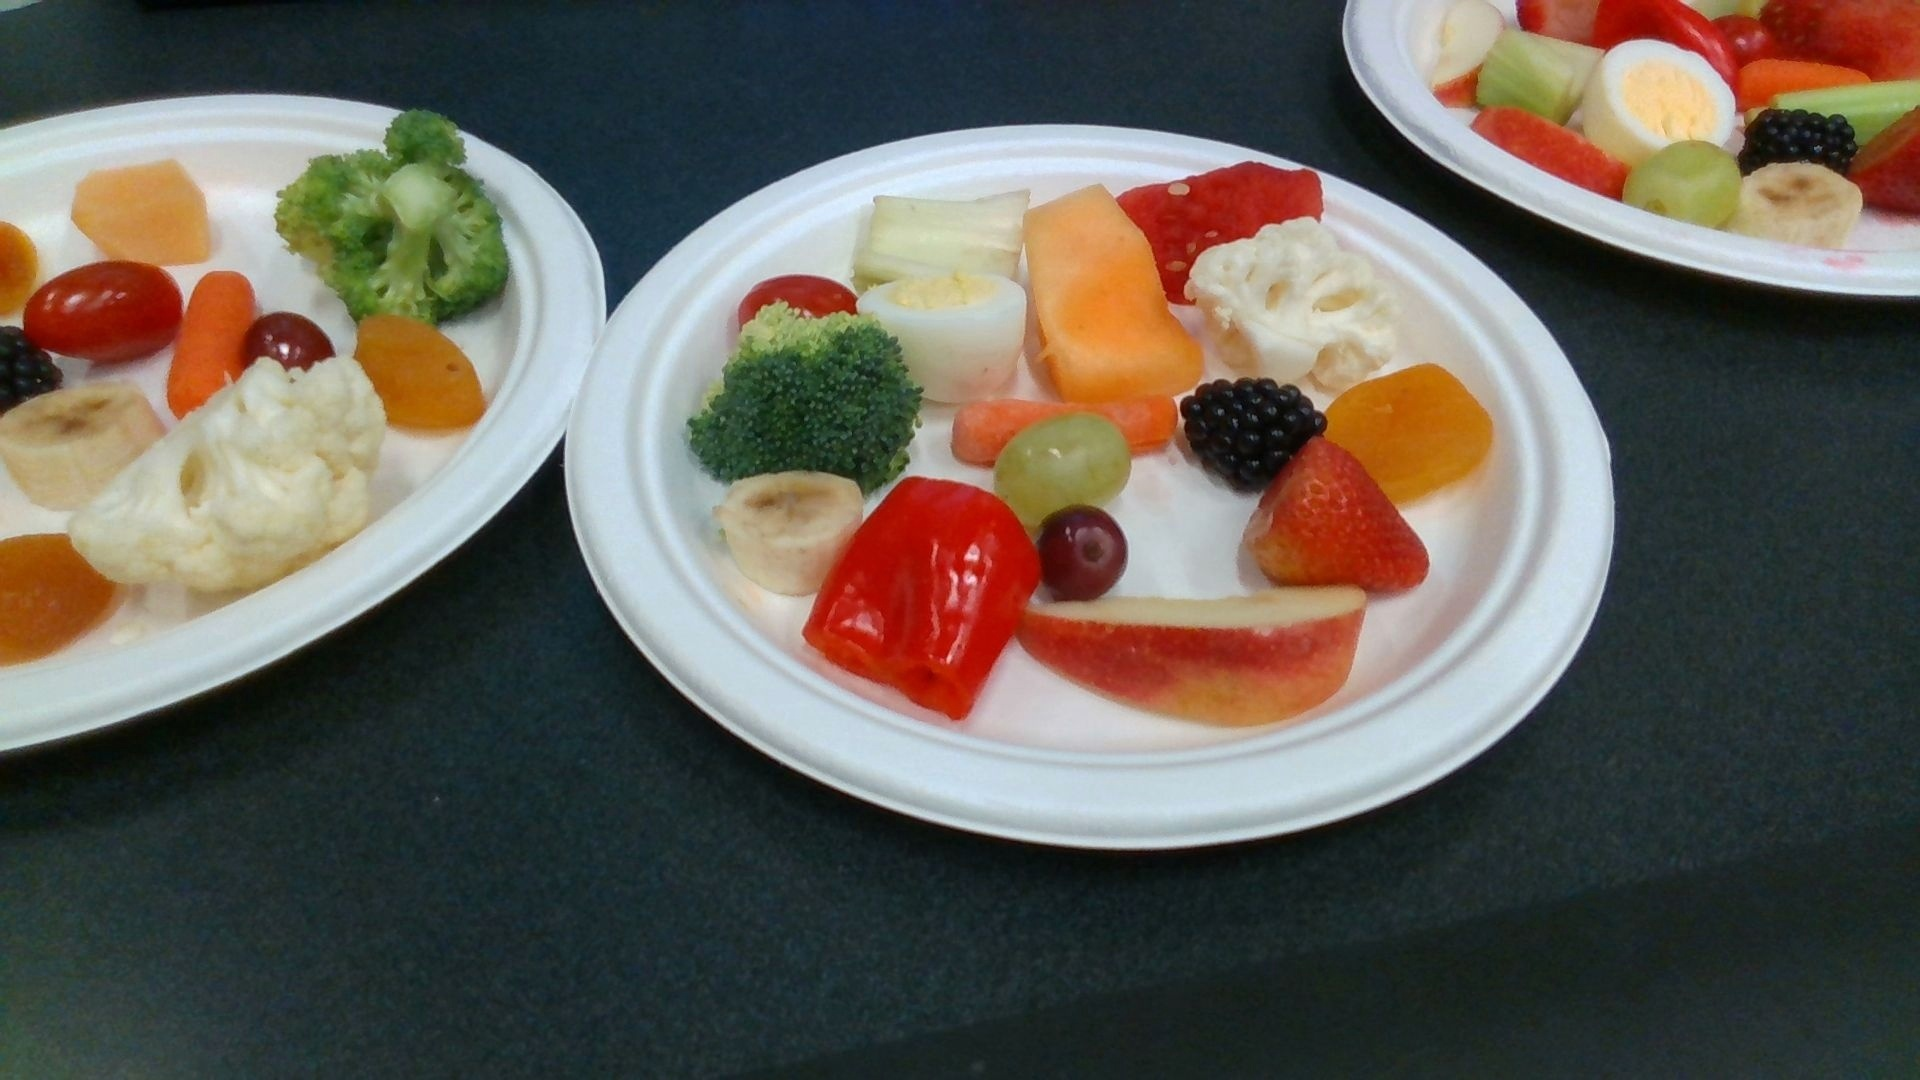apple: (1017, 585, 1364, 725), (1472, 105, 1629, 195)
apricot: (1327, 365, 1491, 505), (353, 318, 484, 431), (1, 533, 113, 663)
banana: (1, 390, 160, 508), (724, 471, 860, 593), (1742, 158, 1859, 251)
bell_pepper: (810, 480, 1034, 716)
blackberry: (1184, 381, 1325, 488)
broccoli: (276, 111, 509, 318), (692, 303, 914, 488)
cantalope: (1025, 189, 1204, 396), (74, 160, 210, 262)
carrot: (955, 398, 1178, 463), (171, 276, 252, 418)
cauliflower: (69, 360, 380, 585), (1185, 216, 1393, 376)
celery: (860, 195, 1025, 280)
cherry_tomato: (24, 262, 177, 357)
egg: (857, 276, 1025, 398), (1586, 40, 1735, 160)
grape_green: (997, 413, 1130, 521), (1625, 141, 1742, 225)
grape_purple: (1036, 506, 1127, 601)
melon: (1120, 161, 1324, 303)
strawberry: (1245, 436, 1429, 595)
